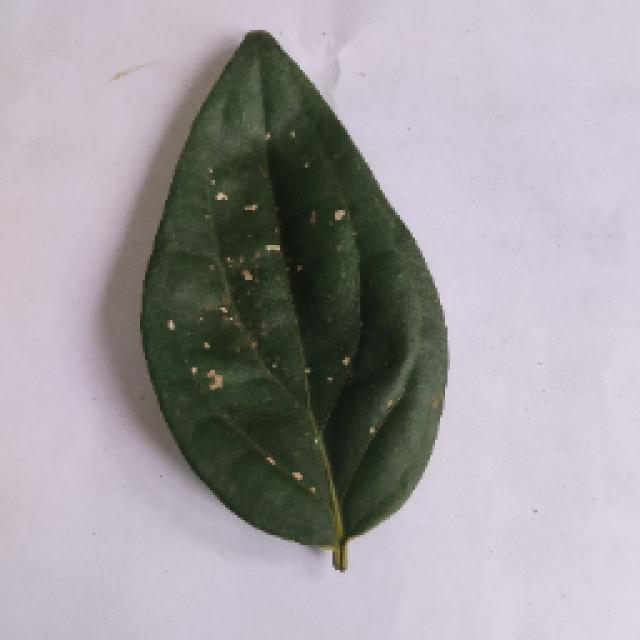pollu-disease: (120, 30, 455, 568)
